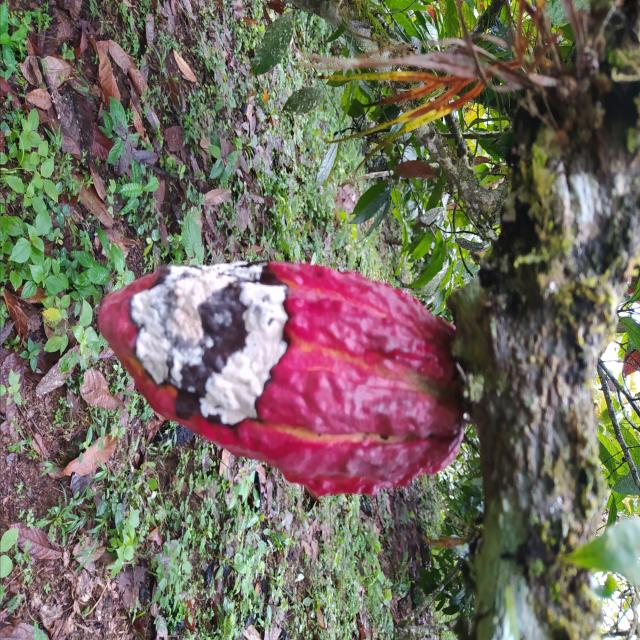Monilia: (95, 260, 468, 496)
